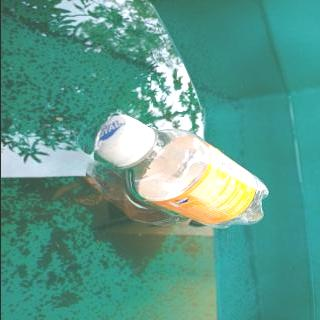bottle: (92, 114, 270, 232)
